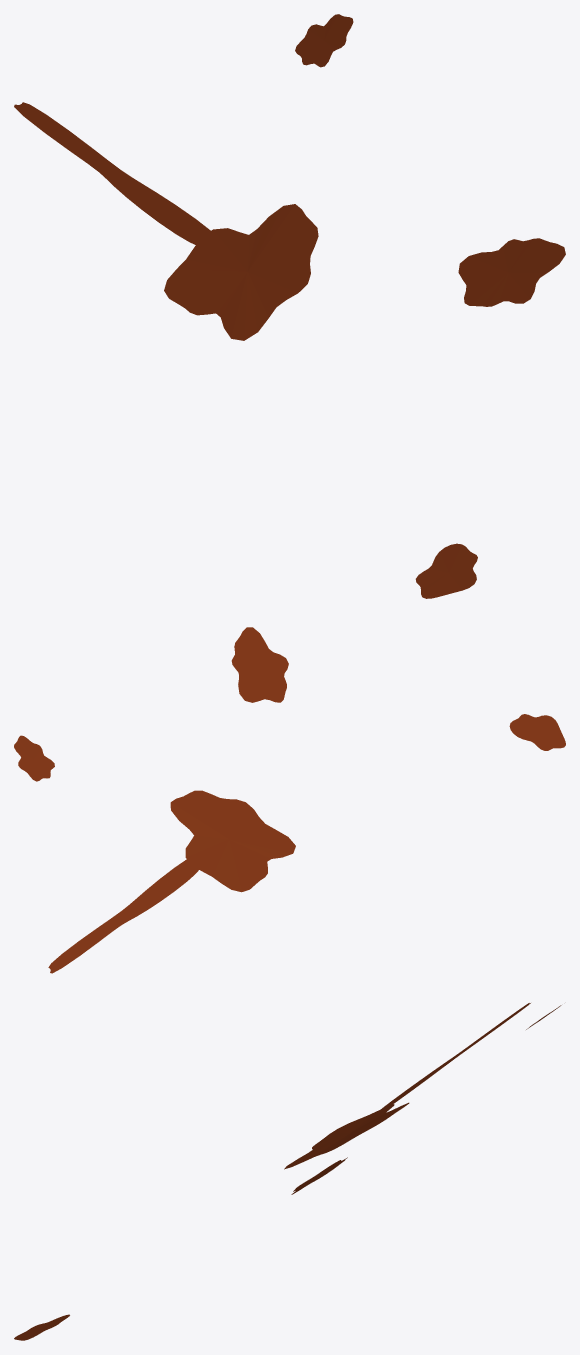
The model's file is fault_tower_coating.glb.
3 renders of one model, top to bottom at view 1: azimuth 30°, elevation 25°; view 2: azimuth 150°, elevation 25°; view 3: azimuth 330°, elevation 25°, orthographic. The views are drawn at different scales.
Visible parts, largest first — view 1: fault_tower_coating; view 2: fault_tower_coating; view 3: fault_tower_coating.
Part boxes in pixels (x1,y1,x2,y2): fault_tower_coating: (14, 14, 565, 598); fault_tower_coating: (14, 627, 565, 973); fault_tower_coating: (14, 1003, 561, 1340).
Bounding box in the file's own units: 0.7277 × 0.485 × 2.21.
